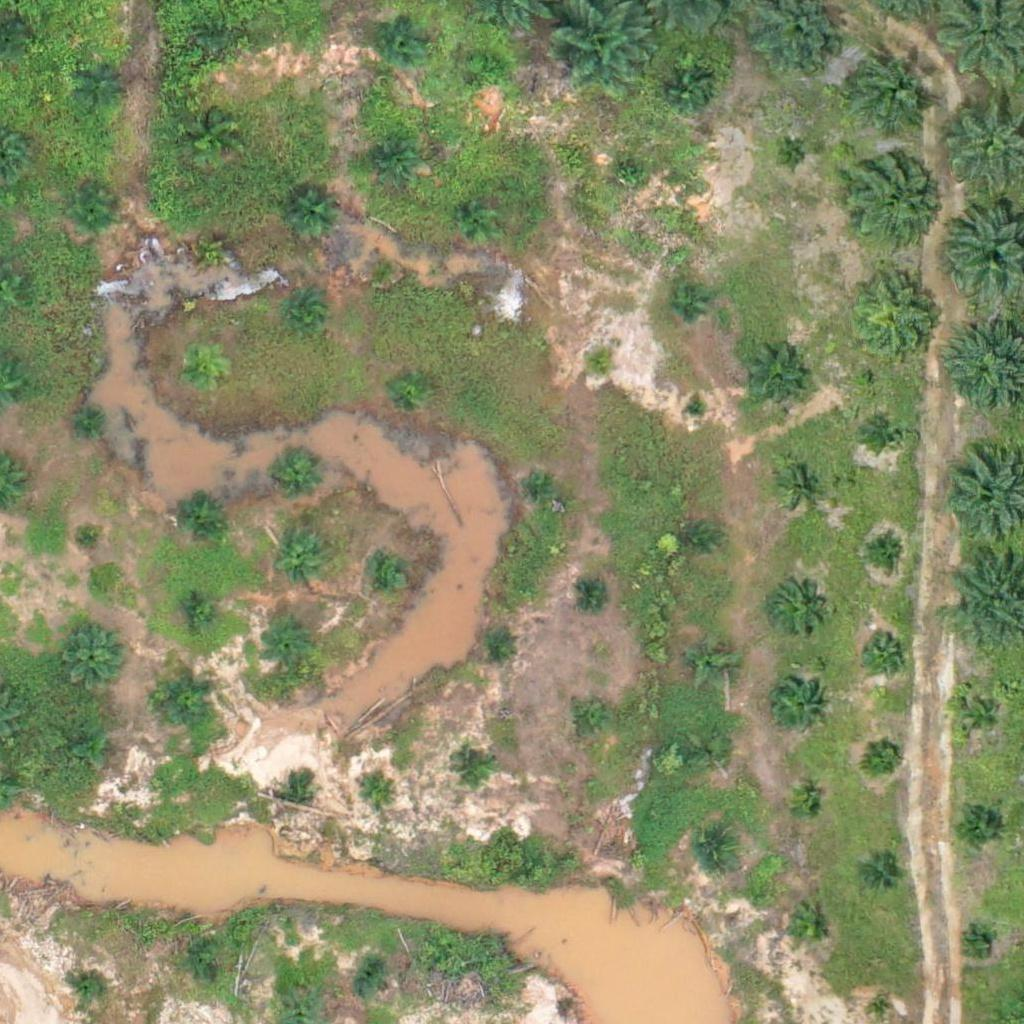Kelapa_Sawit: (839, 41, 939, 142), (841, 147, 941, 248), (846, 268, 946, 369), (741, 349, 804, 412), (58, 620, 121, 682), (768, 676, 830, 739), (159, 671, 221, 733), (185, 112, 235, 163), (282, 192, 332, 243), (177, 349, 227, 400), (272, 450, 322, 501), (660, 63, 710, 114), (771, 579, 821, 630), (784, 903, 834, 954), (687, 636, 737, 687), (78, 58, 128, 109), (190, 221, 240, 272), (170, 489, 220, 539), (277, 534, 327, 584), (263, 620, 313, 670), (952, 799, 1002, 849), (955, 690, 1005, 740), (860, 626, 910, 676), (366, 137, 416, 187), (379, 14, 429, 64), (58, 726, 108, 776), (677, 521, 715, 559), (71, 402, 109, 440), (469, 49, 507, 87), (460, 200, 498, 238), (612, 156, 650, 194), (774, 137, 812, 175), (580, 346, 618, 384), (182, 591, 220, 629), (871, 415, 909, 453), (71, 966, 109, 1004), (350, 960, 388, 998), (75, 189, 113, 226), (370, 558, 407, 596), (787, 788, 825, 825), (865, 532, 902, 570), (783, 465, 820, 503), (577, 576, 615, 613), (453, 751, 490, 789), (694, 734, 732, 771), (867, 736, 904, 774), (198, 16, 235, 54), (664, 285, 701, 323), (361, 246, 398, 284), (72, 516, 109, 554), (357, 775, 394, 813), (194, 960, 231, 998), (287, 296, 324, 333), (863, 860, 900, 897), (695, 832, 732, 869), (475, 624, 512, 661), (572, 702, 609, 739), (392, 369, 429, 406), (523, 467, 560, 504), (280, 781, 305, 807), (964, 930, 989, 955), (683, 395, 708, 420)
